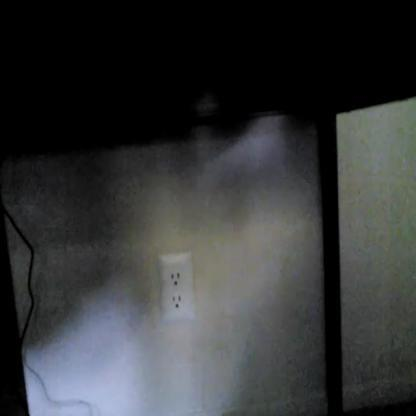OUTLET: (159, 252, 196, 324)
